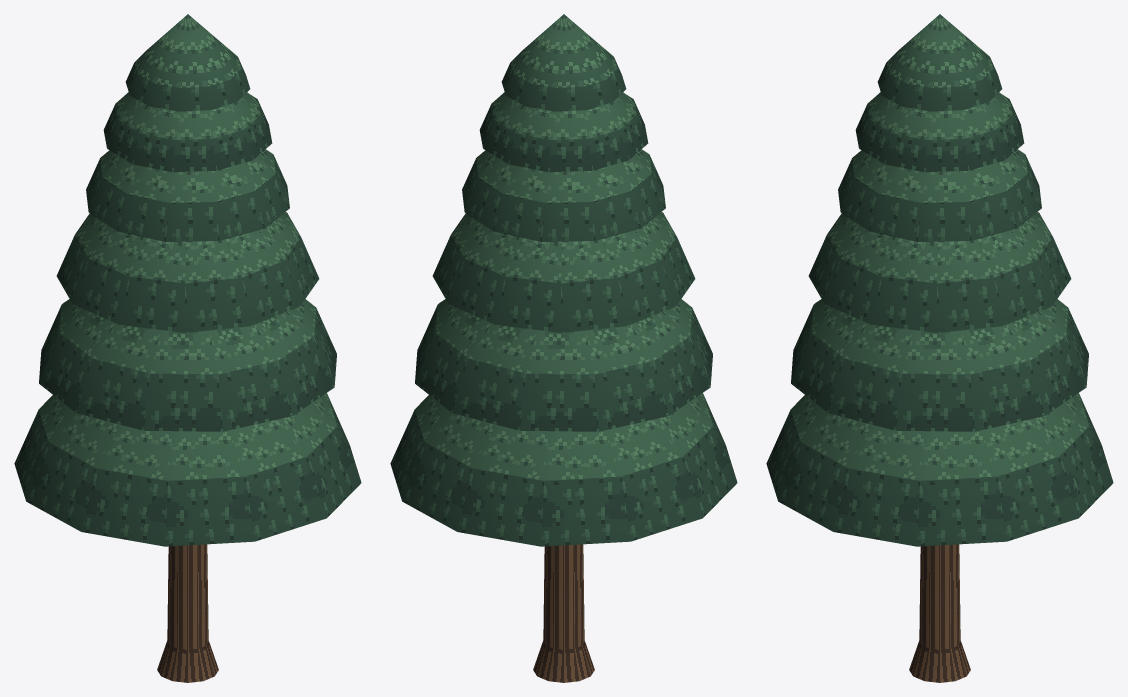
File: pine_5.glb
The picture shows the model from 3 angles, left to right: view 1: azimuth 30°, elevation 25°; view 2: azimuth 150°, elevation 25°; view 3: azimuth 270°, elevation 25°; orthographic projection.
Parts seen in each view (by area): view 1: pine_6; view 2: pine_6; view 3: pine_6.
Boxes of the visible parts, bbox=[...] form: pine_6: bbox=[14, 14, 361, 682]; pine_6: bbox=[390, 14, 737, 682]; pine_6: bbox=[766, 14, 1113, 682].
Bounding box in the file's own units: 2.63 × 5.49 × 2.63.
Materials: 3 (3 with a texture image).
